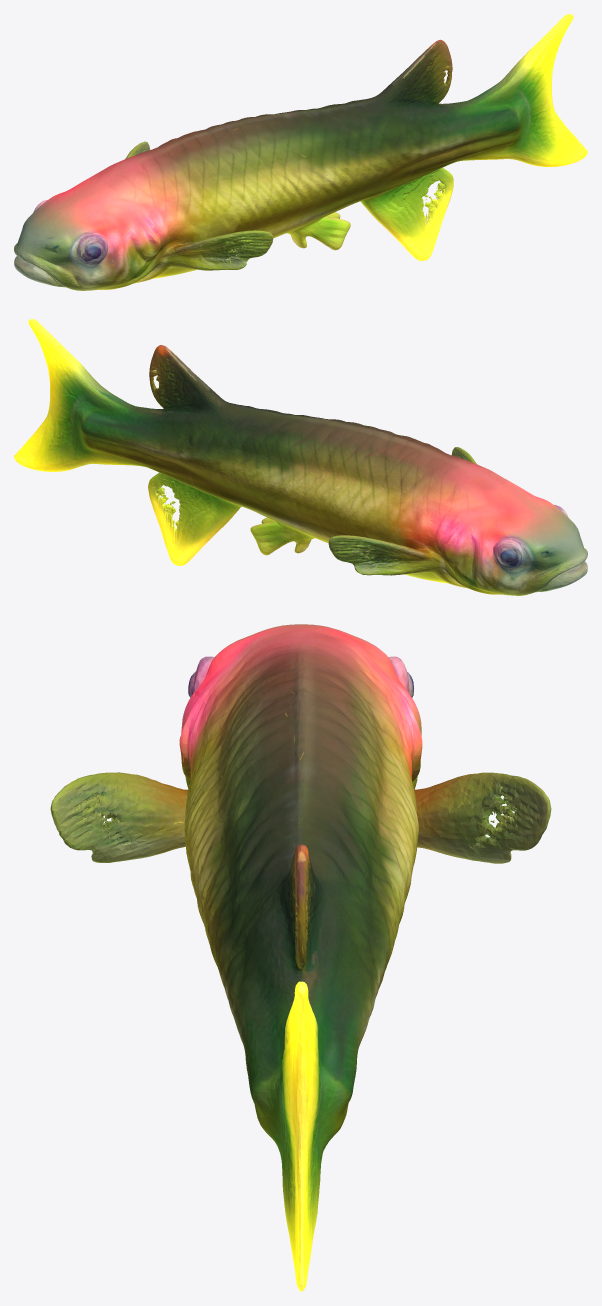
The model's file is fish.fbx.
The picture shows the model from 3 angles, top to bottom: view 1: azimuth 30°, elevation 25°; view 2: azimuth 150°, elevation 25°; view 3: azimuth 270°, elevation 25°; orthographic projection. The views are drawn at different scales.
Parts seen in each view (by area): view 1: world; view 2: world; view 3: world.
Boxes of the visible parts, box(x1,y1,x2,y2) form: world: box(14, 14, 587, 290); world: box(14, 319, 587, 595); world: box(50, 624, 551, 1291).
Bounding box in the file's own units: 199 × 72.28 × 75.85.
1 material, 1 textured.
